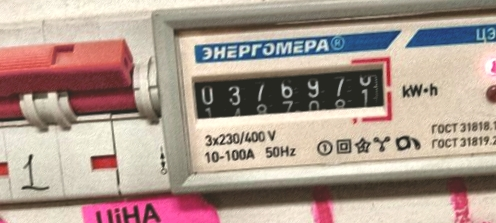0: (198, 83, 214, 106)
1: (357, 87, 370, 108)
3: (225, 84, 242, 107)
6: (277, 76, 293, 100)
7: (250, 79, 267, 103), (331, 74, 346, 98)
9: (303, 75, 319, 100)
screen: (181, 51, 397, 142)
